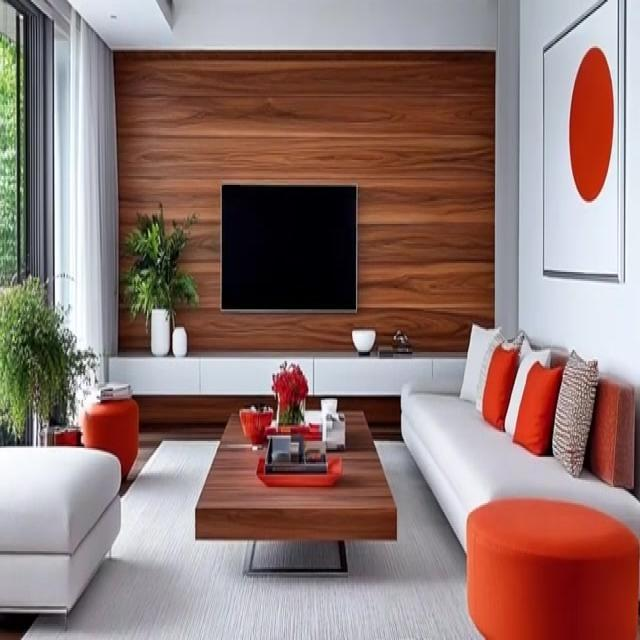obstacle: (401, 325, 640, 640), (194, 407, 397, 576)
